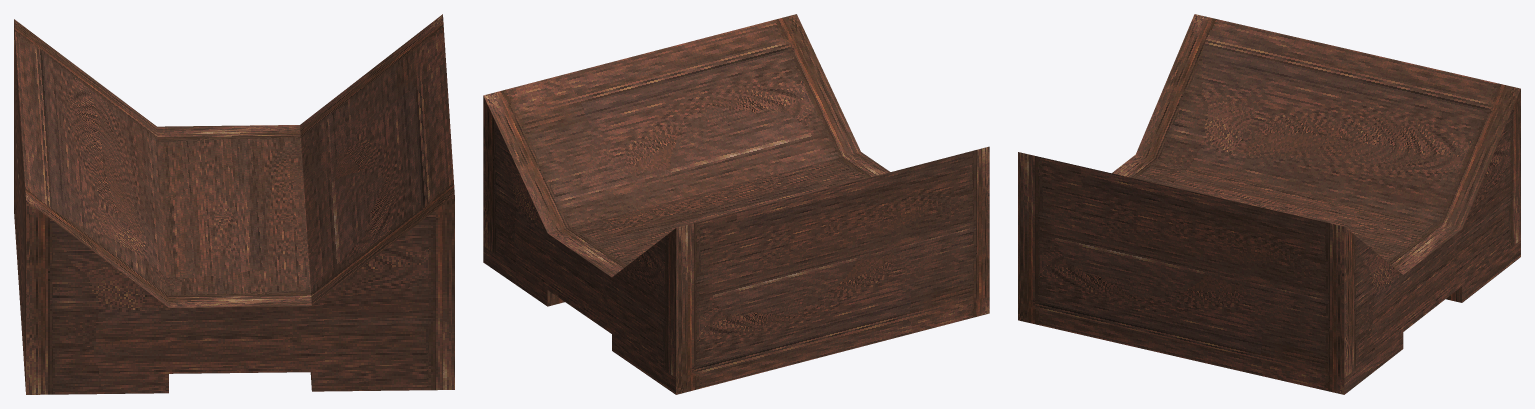
Rendered from barrel-stand.glb.
3 views of the same model, side by side, from view 1: azimuth 30°, elevation 25°; view 2: azimuth 150°, elevation 25°; view 3: azimuth 270°, elevation 25° (orthographic). The views are drawn at different scales.
Parts seen in each view (by area): view 1: Barrel_Stand; view 2: Barrel_Stand; view 3: Barrel_Stand.
Boxes of the visible parts, x1,y1,x2,y2 form: Barrel_Stand: (14, 14, 454, 394); Barrel_Stand: (483, 14, 989, 394); Barrel_Stand: (1018, 14, 1520, 394).
Bounding box in the file's own units: 0.749 × 0.2768 × 0.749.
1 material, 1 textured.
